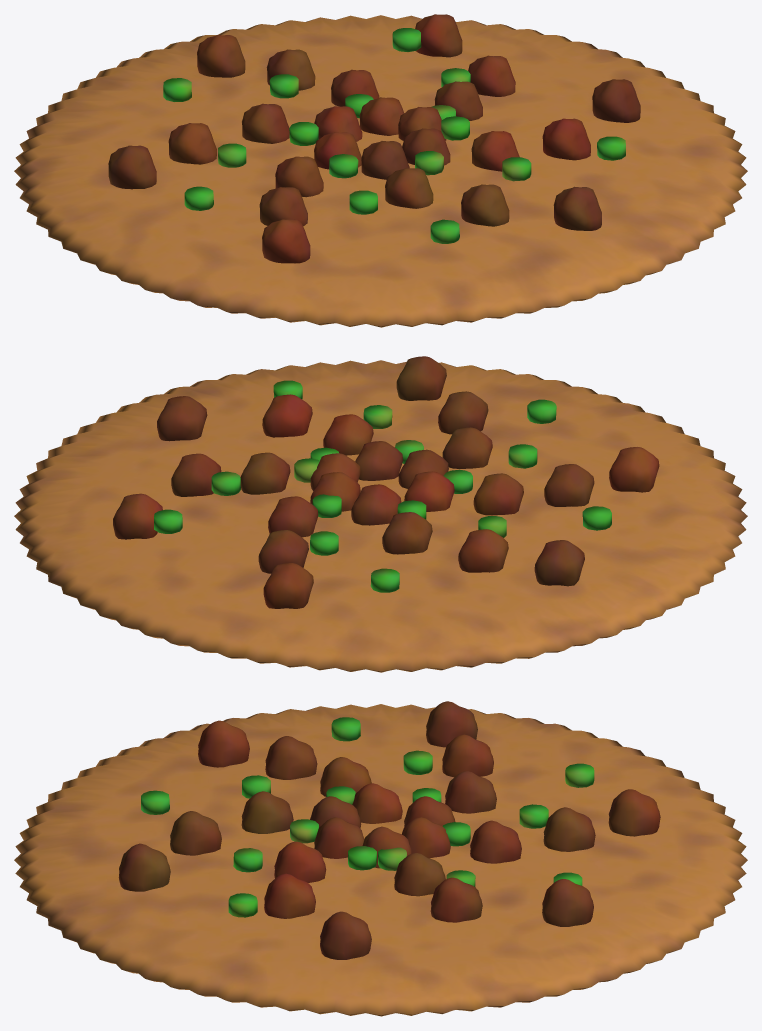
File: keema-masala-pizza-balanced.glb
3 views of the same model, one above another, from view 1: azimuth 30°, elevation 25°; view 2: azimuth 150°, elevation 25°; view 3: azimuth 270°, elevation 25° (orthographic).
Parts seen in each view (by area): view 1: Mesh_Artisan_Pizza_Crust, Mesh_Spiced_Minced_Keema_Clusters, Mesh_Green_Chili_Ginger_And_Coriander; view 2: Mesh_Artisan_Pizza_Crust, Mesh_Spiced_Minced_Keema_Clusters, Mesh_Green_Chili_Ginger_And_Coriander; view 3: Mesh_Artisan_Pizza_Crust, Mesh_Spiced_Minced_Keema_Clusters, Mesh_Green_Chili_Ginger_And_Coriander.
Boxes of the visible parts, x1,y1,x2,y2 form: Mesh_Artisan_Pizza_Crust: (14,15,747,327); Mesh_Spiced_Minced_Keema_Clusters: (108,14,640,263); Mesh_Green_Chili_Ginger_And_Coriander: (163,28,625,243); Mesh_Artisan_Pizza_Crust: (14,360,747,672); Mesh_Spiced_Minced_Keema_Clusters: (113,356,659,608); Mesh_Green_Chili_Ginger_And_Coriander: (154,380,611,592); Mesh_Artisan_Pizza_Crust: (14,704,747,1016); Mesh_Spiced_Minced_Keema_Clusters: (118,701,660,959); Mesh_Green_Chili_Ginger_And_Coriander: (141,717,594,917).
Size of the model in its own units: 2.4 by 0.2803 by 2.4.
Materials: 4 (4 with a texture image).
